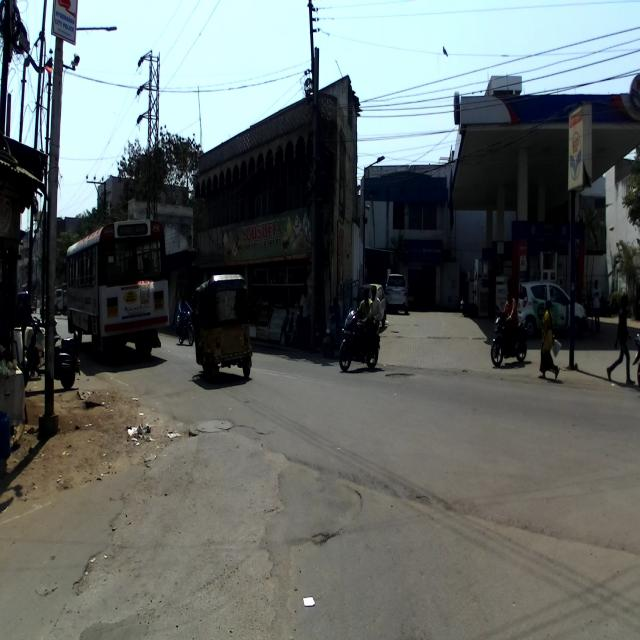high: (541, 297, 561, 382), (614, 287, 631, 387)
